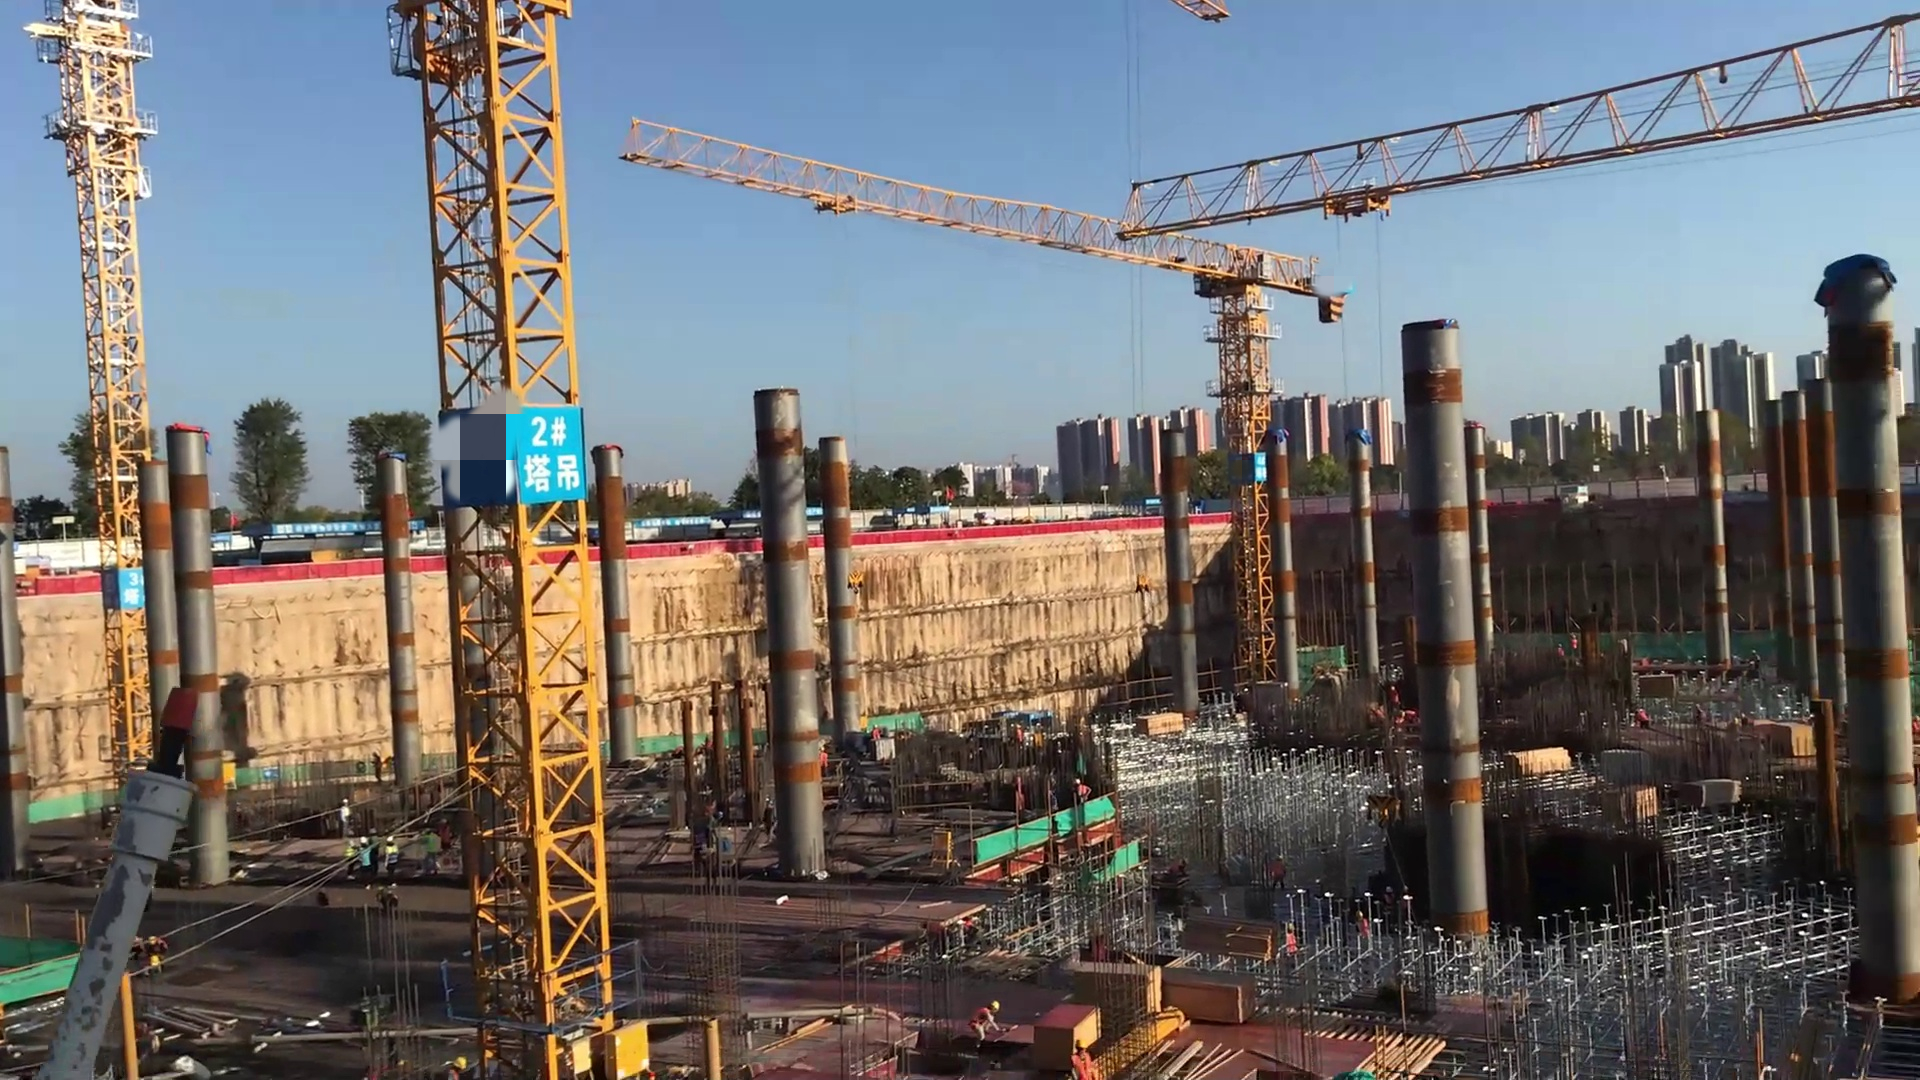helmet: (1076, 1035, 1091, 1056), (383, 835, 398, 850), (987, 995, 1001, 1013), (1351, 910, 1368, 924), (357, 836, 369, 848), (1284, 924, 1295, 937), (341, 797, 350, 808), (1075, 777, 1082, 787), (819, 746, 828, 754)
person: (1066, 1032, 1102, 1080), (970, 995, 1001, 1043), (420, 821, 442, 883), (919, 917, 955, 955), (1351, 908, 1377, 955), (355, 833, 373, 891), (958, 912, 987, 950), (384, 832, 401, 894), (1282, 919, 1303, 968), (437, 814, 456, 859), (1068, 777, 1093, 811), (814, 742, 834, 784), (338, 794, 354, 842), (370, 745, 387, 790), (1385, 678, 1400, 722), (1008, 717, 1026, 754), (1270, 852, 1286, 892), (1635, 705, 1652, 734), (871, 722, 887, 752), (1403, 704, 1420, 731), (1568, 630, 1583, 657), (1554, 643, 1566, 662)
vest: (386, 846, 399, 868)
